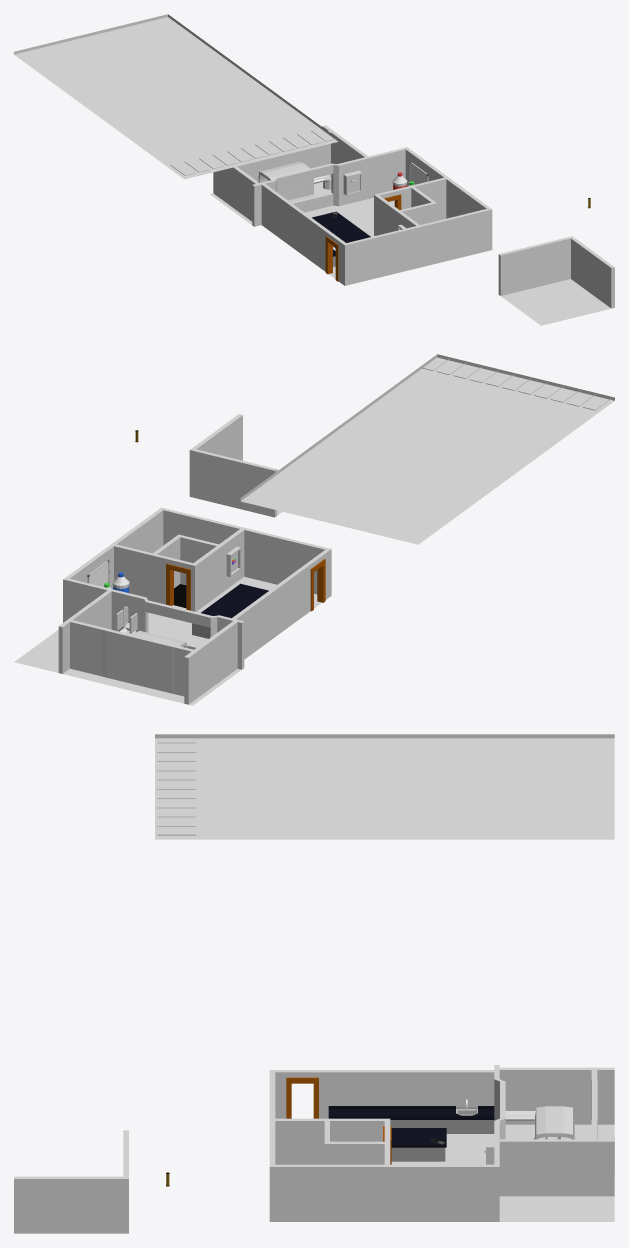
The model's file is chemical_chute.glb.
3 renders of one model, top to bottom at view 1: azimuth 30°, elevation 25°; view 2: azimuth 150°, elevation 25°; view 3: azimuth 270°, elevation 25°, orthographic. The views are drawn at different scales.
Visible parts, largest first — view 1: Grid.008, Grid, Grid.001; view 2: Grid, Grid.008, Grid.001; view 3: Grid, Grid.008, Grid.001.
Boxes of the visible parts, left/top/right/bottom form: Grid.008: left=14, top=14, right=338, bottom=179; Grid: left=210, top=125, right=492, bottom=285; Grid.001: left=498, top=236, right=614, bottom=325; Grid: left=14, top=507, right=331, bottom=705; Grid.008: left=240, top=354, right=614, bottom=544; Grid.001: left=189, top=414, right=282, bottom=517; Grid: left=269, top=1065, right=614, bottom=1221; Grid.008: left=155, top=734, right=614, bottom=839; Grid.001: left=14, top=1130, right=128, bottom=1233.
Size of the model in its own units: 111 by 49.58 by 105.
52 materials, 6 textured.
